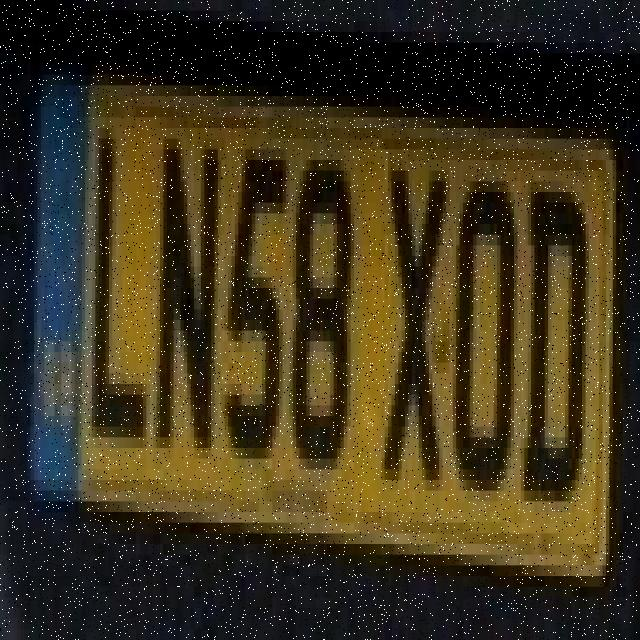licenseplate: (15, 26, 623, 614)
